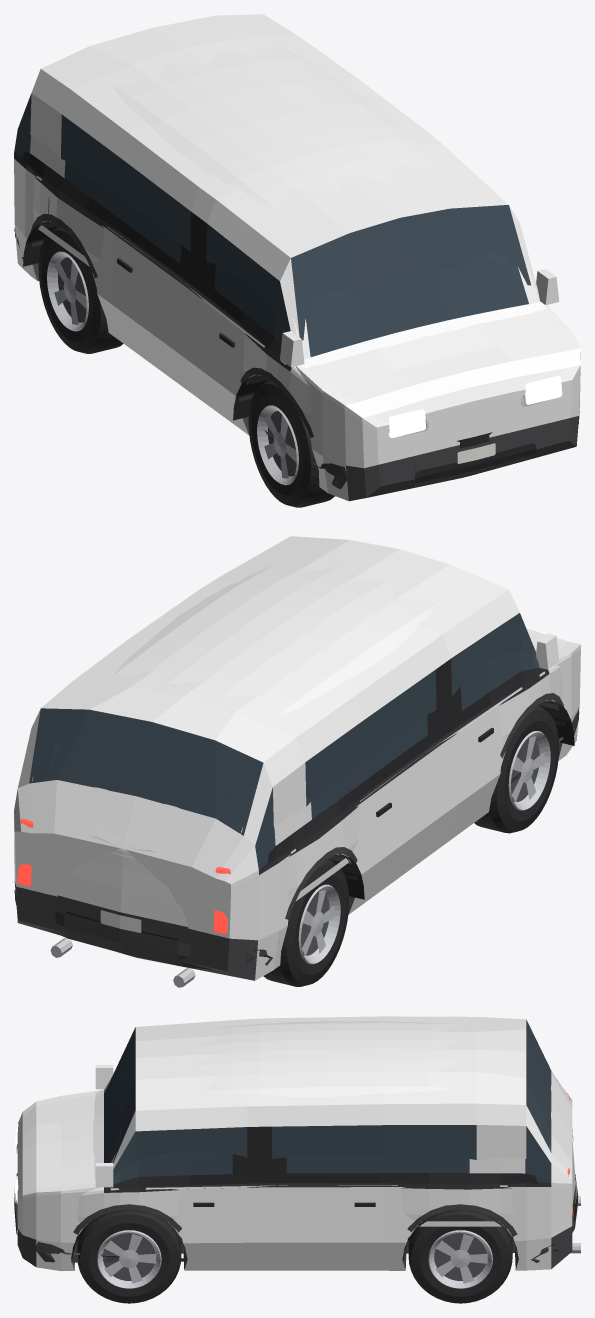
The model's file is paodeforma.glb.
3 views of the same model, one above another, from view 1: azimuth 30°, elevation 25°; view 2: azimuth 150°, elevation 25°; view 3: azimuth 270°, elevation 25° (orthographic). The views are drawn at different scales.
Parts seen in each view (by area): view 1: body.001, body, glass.001, glass, details, wheel_fr, wheel_rr, lamp_head.001, wheel_wells.001; view 2: body.001, body, glass.001, details, wheel_fr, wheel_rr, glass, wheel_wells.001, lamp_tail.001; view 3: body.001, body, glass.001, wheel_fl, wheel_rl, glass, details, wheel_wells, wheel_wells.001.
Boxes of the visible parts, x1,y1,x2,y2 form: body.001: [14, 14, 580, 501]; body: [21, 45, 548, 421]; glass.001: [14, 94, 530, 340]; glass: [24, 135, 528, 356]; details: [14, 175, 579, 489]; wheel_fr: [248, 379, 334, 507]; wheel_rr: [38, 226, 123, 353]; lamp_head.001: [389, 375, 562, 437]; wheel_wells.001: [23, 221, 268, 420]; body.001: [14, 536, 580, 980]; body: [32, 564, 562, 958]; glass.001: [29, 613, 535, 869]; details: [14, 633, 579, 987]; wheel_fr: [474, 705, 559, 833]; wheel_rr: [263, 859, 349, 986]; glass: [32, 649, 540, 853]; wheel_wells.001: [329, 700, 574, 899]; lamp_tail.001: [17, 818, 230, 934]; body.001: [17, 1016, 572, 1271]; body: [74, 1021, 575, 1253]; glass.001: [110, 1019, 551, 1182]; wheel_fl: [77, 1210, 181, 1303]; wheel_rl: [408, 1210, 512, 1303]; glass: [104, 1046, 550, 1187]; details: [14, 1065, 580, 1262]; wheel_wells: [71, 1209, 518, 1262]; wheel_wells.001: [71, 1210, 518, 1261].
Size of the model in its own units: 1.97 by 1.86 by 4.57.
